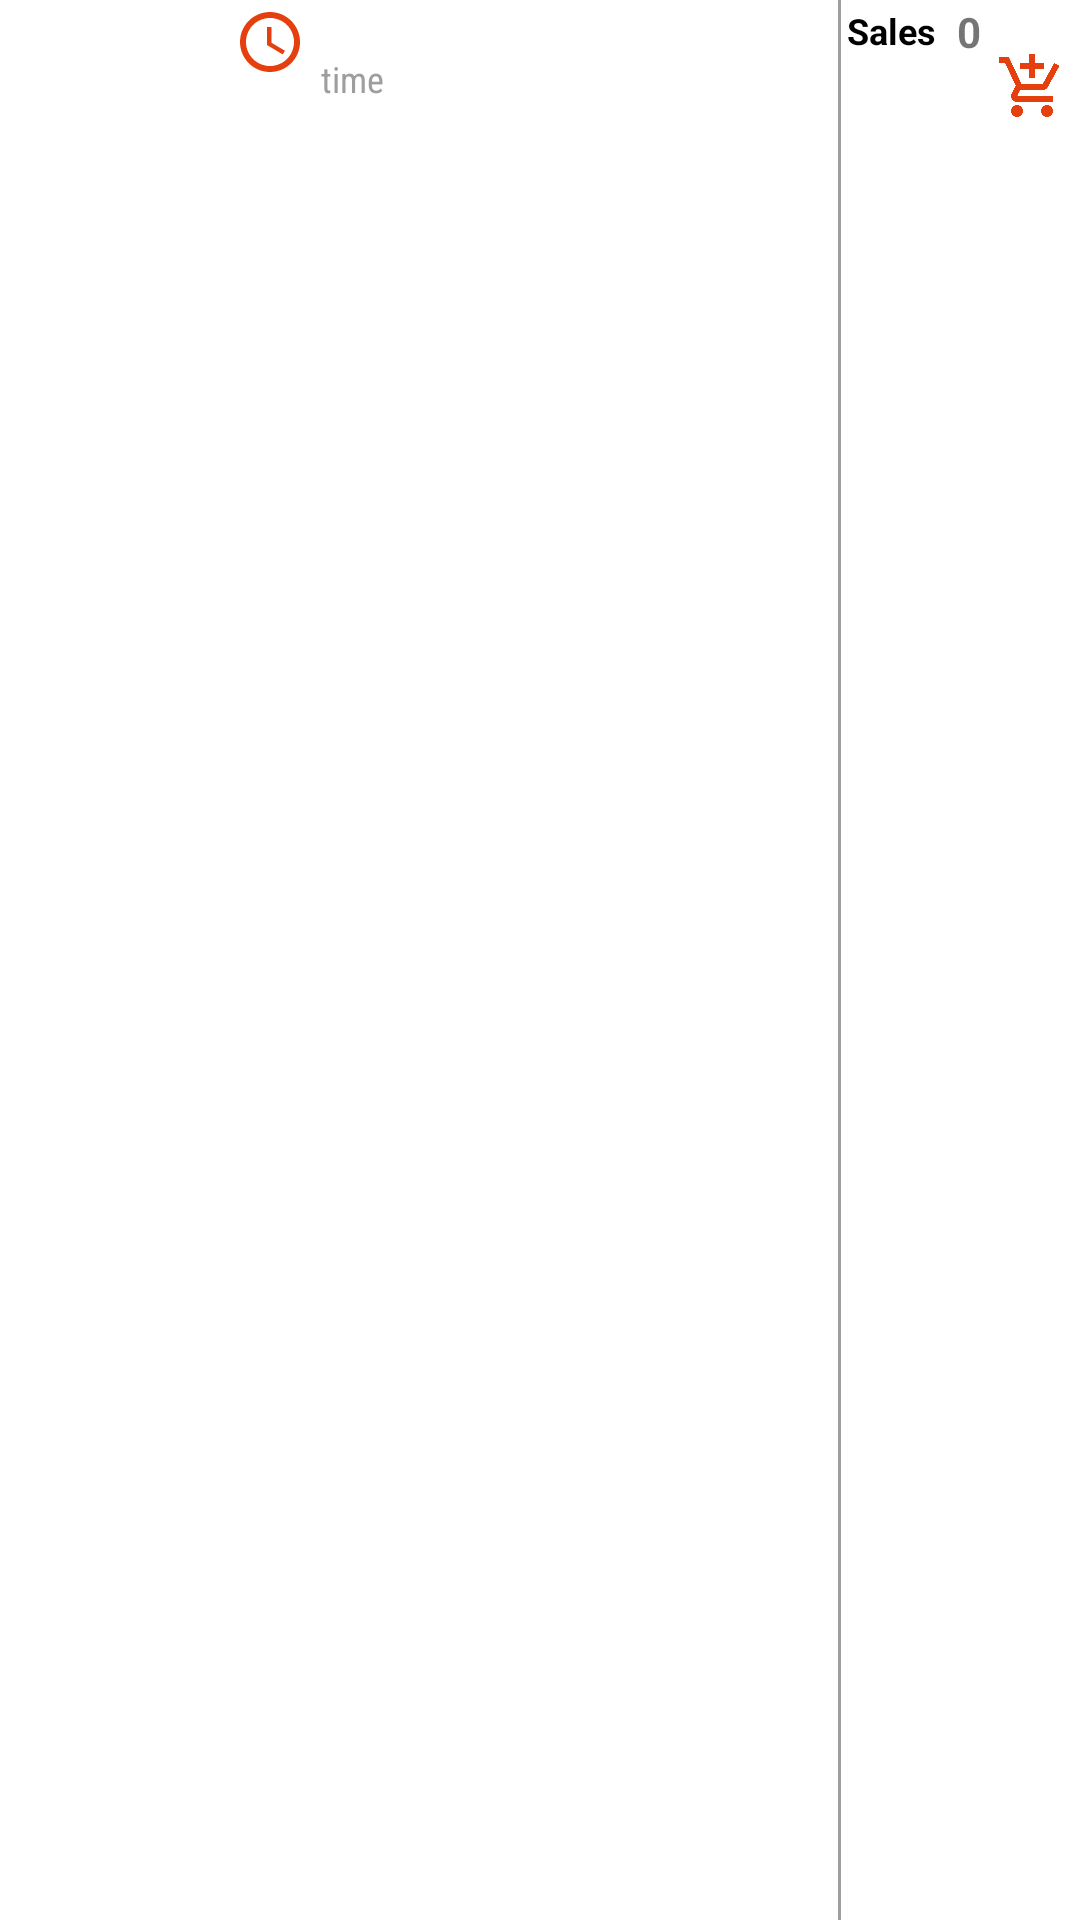

Where to tap for icons on this 1080px x 1920px app screen, as [x,y]:
add shopping cart: [1029,85]
